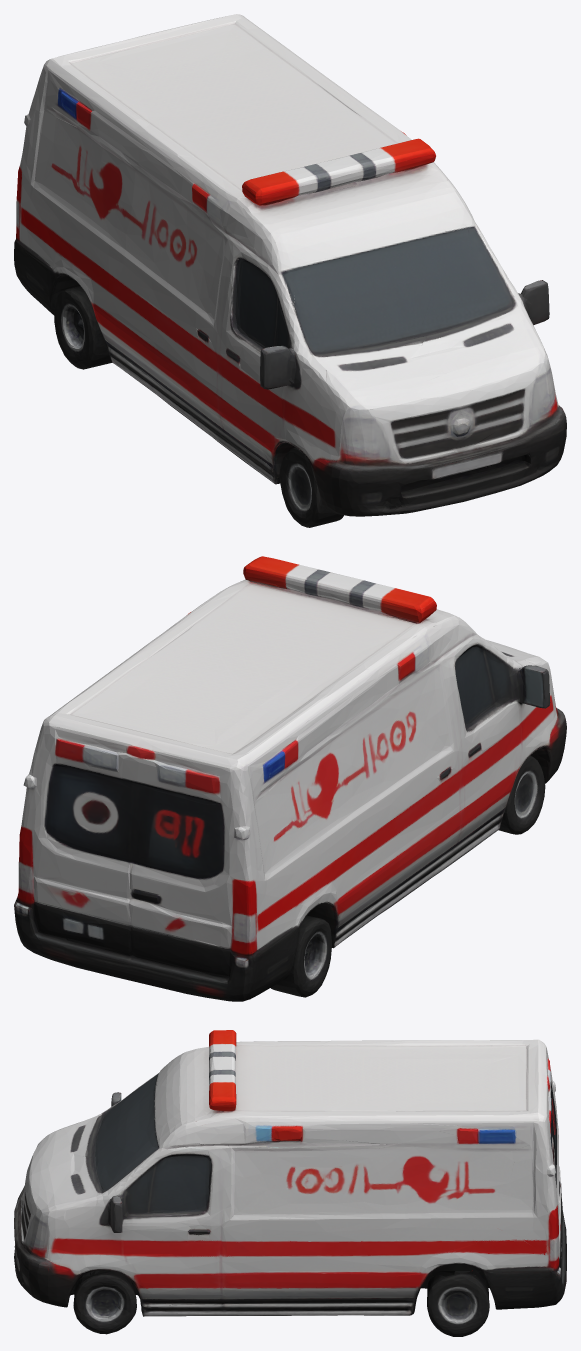
The model's file is ambulance.glb.
3 renders of one model, top to bottom at view 1: azimuth 30°, elevation 25°; view 2: azimuth 150°, elevation 25°; view 3: azimuth 270°, elevation 25°, orthographic. The views are drawn at different scales.
Parts seen in each view (by area): view 1: world; view 2: world; view 3: world.
Part boxes in pixels (bbox=[...]): world: bbox=[14, 14, 566, 527]; world: bbox=[14, 556, 566, 1001]; world: bbox=[14, 1030, 566, 1336].
Size of the model in its own units: 0.4832 by 0.454 by 0.9993.
Materials: 1 (1 with a texture image).
